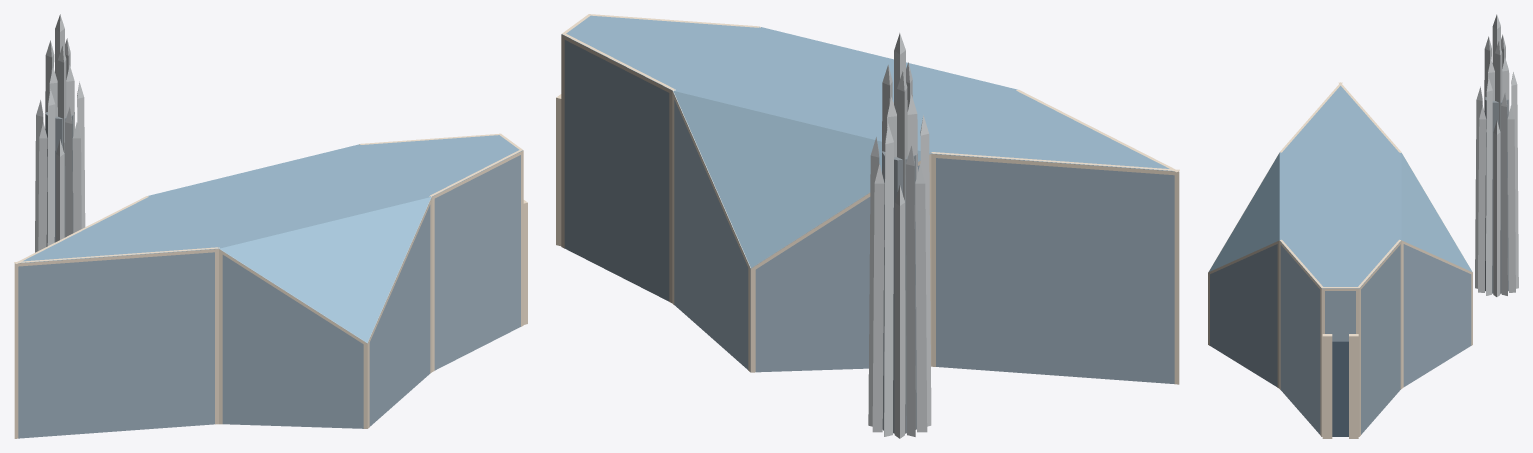
File: la-christ-cathedral.glb
3 views of the same model, side by side, from view 1: azimuth 30°, elevation 25°; view 2: azimuth 150°, elevation 25°; view 3: azimuth 270°, elevation 25° (orthographic). The views are drawn at different scales.
Parts seen in each view (by area): view 1: Christ Cathedral; view 2: Christ Cathedral; view 3: Christ Cathedral.
Part boxes in pixels (<box>): Christ Cathedral: <box>14,14,527,438</box>; Christ Cathedral: <box>556,14,1179,438</box>; Christ Cathedral: <box>1208,14,1518,438</box>.
Size of the model in its own units: 117 by 72 by 73.98.
